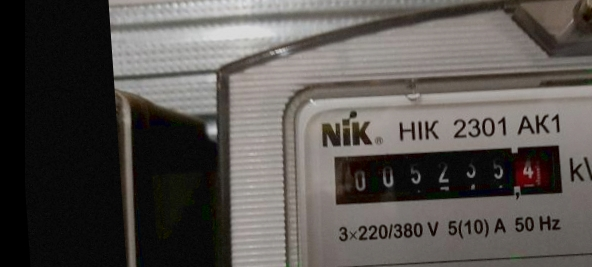0: (352, 166, 369, 193), (380, 162, 396, 188)
2: (435, 158, 451, 184)
3: (463, 154, 479, 180)
4: (520, 154, 537, 181)
5: (490, 153, 507, 181), (407, 160, 424, 187)
screen: (323, 131, 575, 217)
